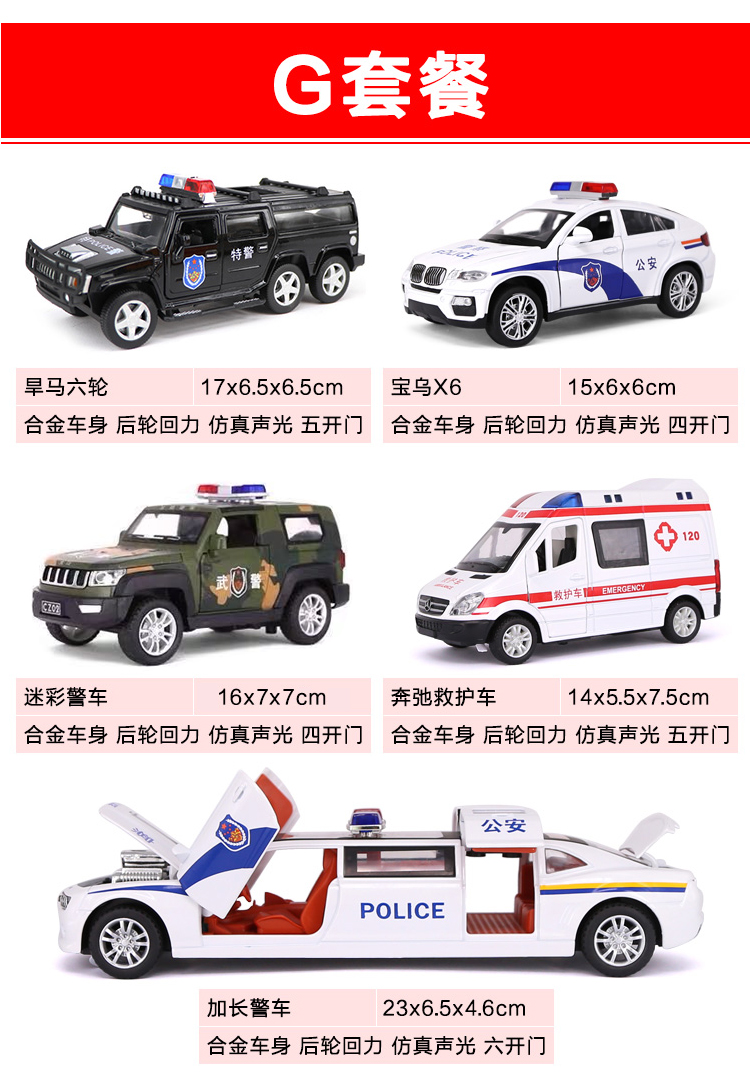Car: (36, 758, 743, 996), (21, 473, 362, 677), (398, 470, 750, 667), (14, 170, 373, 354), (395, 174, 730, 350)
